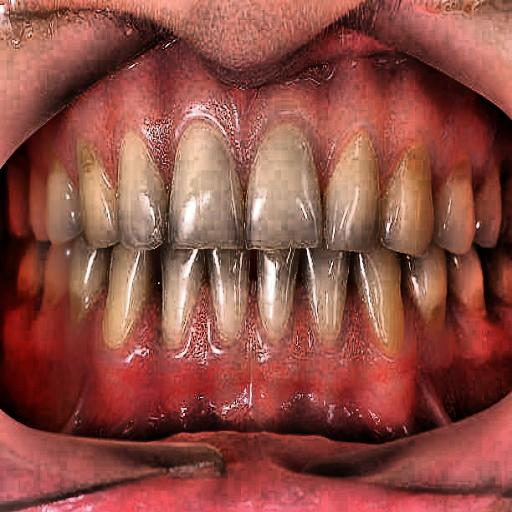Gingivitis: (34, 308, 498, 433)
